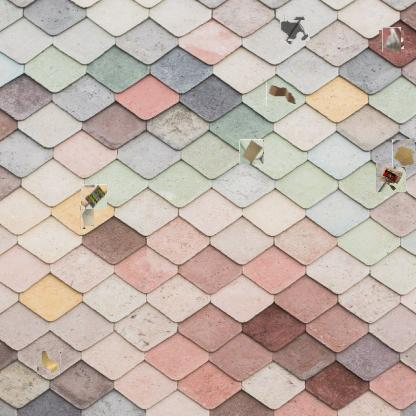dirty: (376, 162, 406, 192), (266, 82, 297, 106), (81, 184, 107, 209), (239, 140, 264, 164), (380, 28, 403, 51), (38, 352, 60, 374), (80, 205, 94, 229)
liquid: (282, 18, 308, 44), (392, 139, 415, 167)
